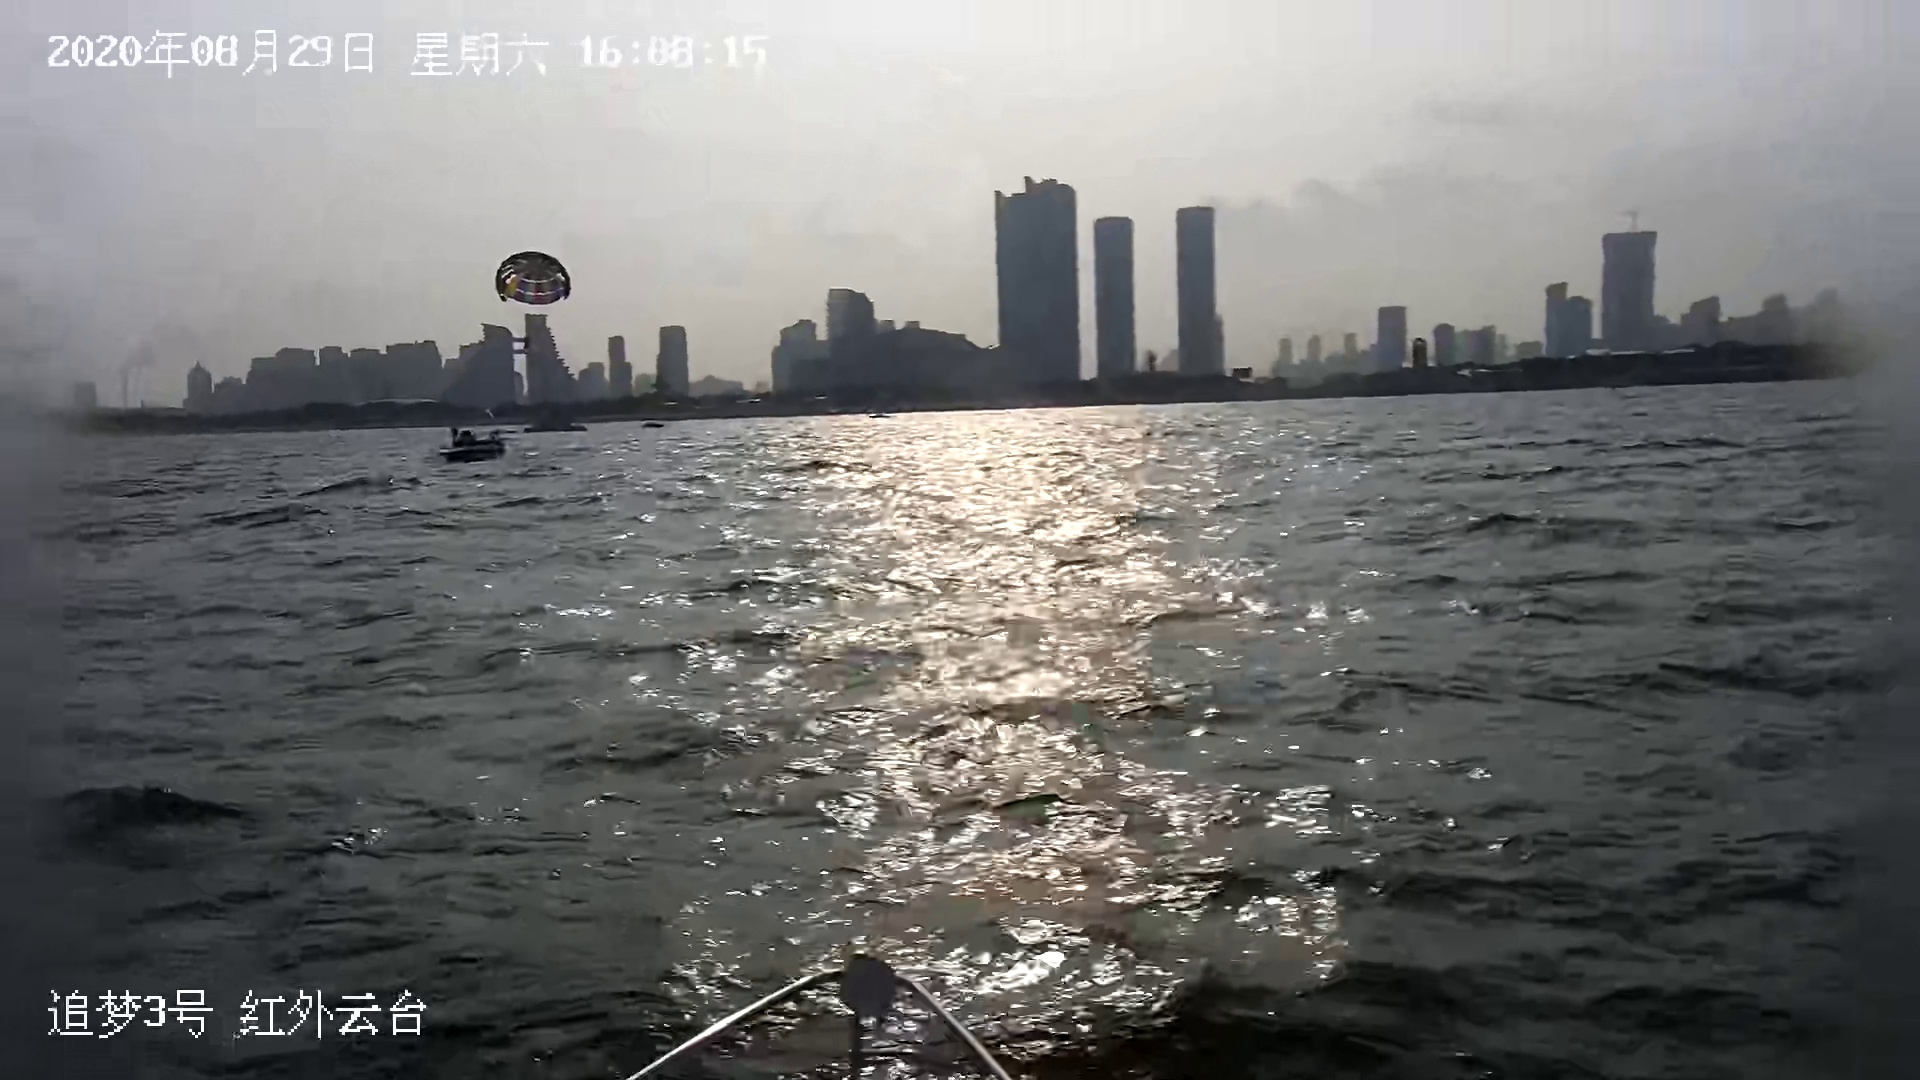barrier: (439, 426, 512, 465), (520, 423, 589, 433), (640, 419, 665, 430)
coast: (1, 175, 1920, 423)
